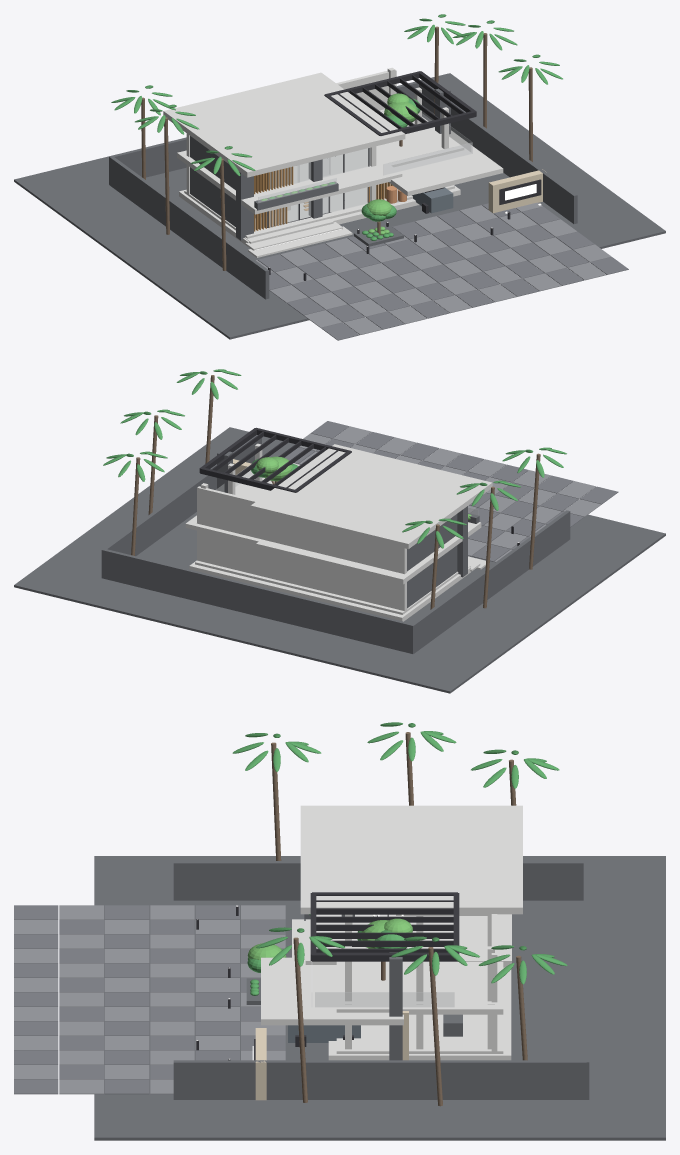
The model's file is mm-signature-house.glb.
3 renders of one model, top to bottom at view 1: azimuth 30°, elevation 25°; view 2: azimuth 150°, elevation 25°; view 3: azimuth 270°, elevation 25°, orthographic. The views are drawn at different scales.
Parts seen in each view (by area): view 1: Site_Ground_Terrain, Architecture_Roof_Left_Slab, Site_Boundary_Left, Structure_FirstFloor_Cantilever_Slab, Site_Boundary_Right, Structure_Carport_Cantilever_Canopy, Structure_Ground_Floor_Deck, Structure_FirstFloor_Terrace_Slab, Site_Boundary_Rear, Envelope_Glass_Atrium_Curtain, Architecture_Wall_Ground_Left, Site_Signage_Wall_Pylon (+16 smaller); view 2: Site_Ground_Terrain, Architecture_Roof_Left_Slab, Site_Boundary_Rear, Architecture_Wall_Upper_Rear, Architecture_Wall_Ground_Rear, Site_Boundary_Left, Site_Boundary_Right, Structure_FirstFloor_Cantilever_Slab, Foundation_Main_PlinthSlab, Architecture_Wall_Ground_Left, Structure_Ground_Floor_Deck, Structure_FirstFloor_Terrace_Slab (+6 smaller); view 3: Site_Ground_Terrain, Architecture_Roof_Left_Slab, Site_Boundary_Right, Site_Boundary_Left, Structure_FirstFloor_Terrace_Slab, Structure_Carport_Cantilever_Canopy, Structure_Ground_Floor_Deck, Structure_FirstFloor_Cantilever_Slab, Foundation_Main_PlinthSlab, Envelope_Balustrade_Right_Terrace_Side, Site_Boundary_Rear, Facade_Basalt_Pylon_Right (+72 smaller).
Boxes of the visible parts, x1,y1,x2,y2 form: Site_Ground_Terrain: (14, 73, 665, 339); Architecture_Roof_Left_Slab: (163, 72, 405, 177); Site_Boundary_Left: (109, 156, 269, 299); Structure_FirstFloor_Cantilever_Slab: (177, 148, 402, 214); Site_Boundary_Right: (419, 84, 577, 223); Structure_Carport_Cantilever_Canopy: (388, 130, 503, 196); Structure_Ground_Floor_Deck: (184, 182, 454, 238); Structure_FirstFloor_Terrace_Slab: (376, 111, 464, 166); Site_Boundary_Rear: (109, 81, 418, 184); Envelope_Glass_Atrium_Curtain: (322, 148, 370, 214); Architecture_Wall_Ground_Left: (190, 167, 235, 226); Site_Signage_Wall_Pylon: (488, 169, 546, 213); Site_Ground_Terrain: (14, 427, 665, 693); Architecture_Roof_Left_Slab: (250, 444, 492, 549); Site_Boundary_Rear: (101, 549, 414, 653); Architecture_Wall_Upper_Rear: (197, 486, 406, 574); Architecture_Wall_Ground_Rear: (197, 530, 406, 610); Site_Boundary_Left: (412, 510, 570, 653); Site_Boundary_Right: (102, 438, 261, 556); Structure_FirstFloor_Cantilever_Slab: (256, 522, 481, 584); Foundation_Main_PlinthSlab: (189, 560, 470, 621); Architecture_Wall_Ground_Left: (407, 545, 457, 608); Structure_Ground_Floor_Deck: (195, 560, 458, 614); Structure_FirstFloor_Terrace_Slab: (185, 477, 272, 544); Site_Ground_Terrain: (94, 856, 665, 1140); Architecture_Roof_Left_Slab: (300, 805, 522, 914); Site_Boundary_Right: (173, 1060, 586, 1099); Site_Boundary_Left: (173, 861, 586, 900); Structure_FirstFloor_Terrace_Slab: (336, 961, 503, 1014); Structure_Carport_Cantilever_Canopy: (261, 957, 403, 1025); Structure_Ground_Floor_Deck: (336, 1014, 503, 1053); Structure_FirstFloor_Cantilever_Slab: (305, 914, 511, 967); Foundation_Main_PlinthSlab: (328, 967, 511, 1060); Envelope_Balustrade_Right_Terrace_Side: (315, 992, 454, 1006); Site_Boundary_Rear: (583, 861, 589, 1099); Facade_Basalt_Pylon_Right: (389, 952, 402, 1060).
Size of the model in its own units: 42 by 12.38 by 41.06.
